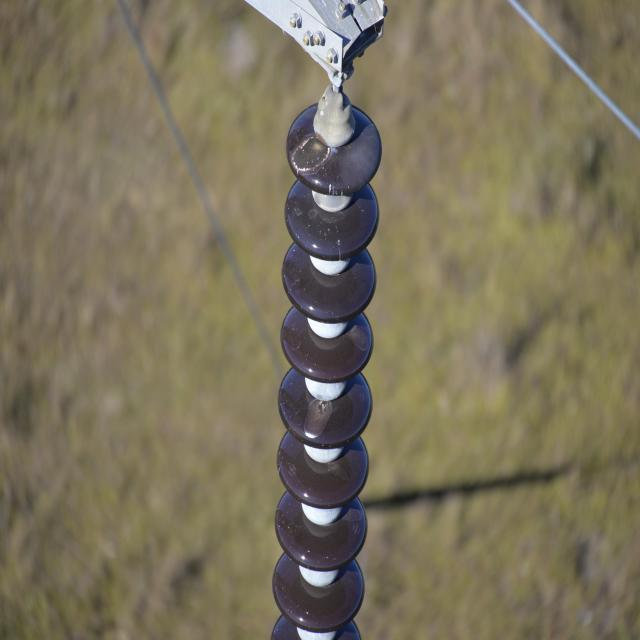insulator: (269, 102, 381, 640)
